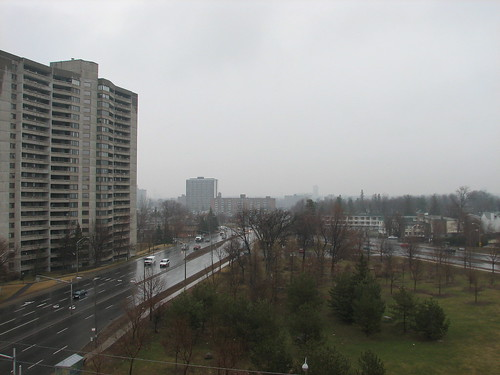building: (1, 64, 146, 273), (184, 176, 226, 218), (215, 195, 280, 222)
sky: (155, 1, 500, 192)
street: (10, 228, 242, 371)
vegetation: (173, 245, 477, 375)
